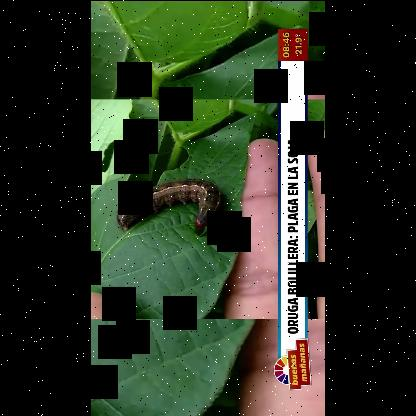oruga: (110, 171, 228, 239)
